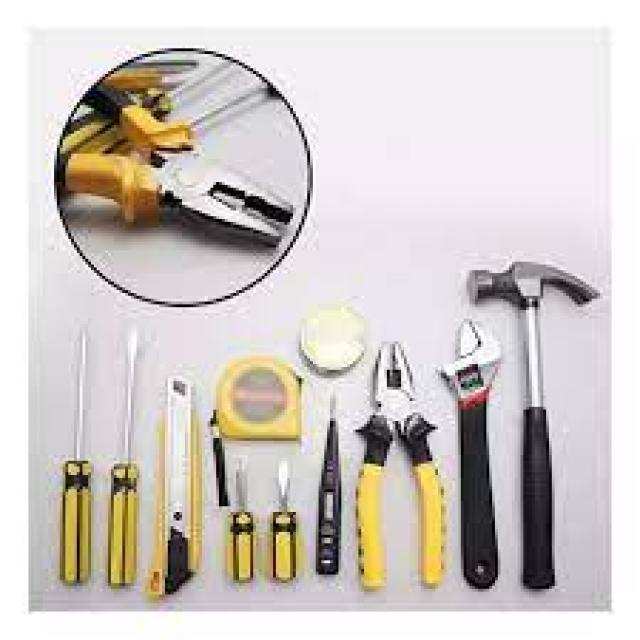hammer: (464, 258, 600, 590)
screwdriver: (102, 318, 145, 598), (57, 322, 97, 594), (262, 458, 308, 583), (224, 457, 258, 590)
